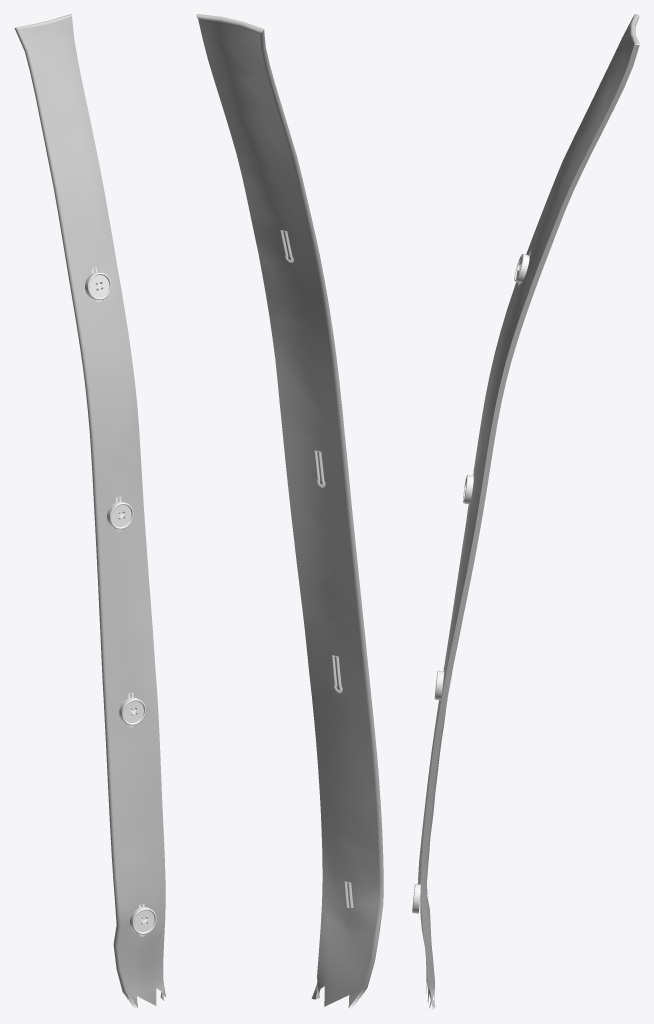
Rendered from Tuxedo_placket.glb.
The picture shows the model from 3 angles, left to right: view 1: azimuth 30°, elevation 25°; view 2: azimuth 150°, elevation 25°; view 3: azimuth 270°, elevation 25°; orthographic projection. The views are drawn at different scales.
Visible parts, largest first — view 1: Wide_Front_placket_Node001.001, button001.004, button002.003, button004.004, button004.005; view 2: Wide_Front_placket_Node001.001; view 3: Wide_Front_placket_Node001.001.
Boxes of the visible parts, x1,y1,x2,y2 form: Wide_Front_placket_Node001.001: [14, 14, 165, 1008]; button001.004: [85, 272, 111, 300]; button002.003: [107, 501, 133, 529]; button004.004: [119, 697, 146, 725]; button004.005: [129, 907, 156, 934]; Wide_Front_placket_Node001.001: [196, 14, 383, 1007]; Wide_Front_placket_Node001.001: [417, 14, 639, 1009].
Bounding box in the file's own units: 3.13 × 46.55 × 9.89.
8 materials, 3 textured.
